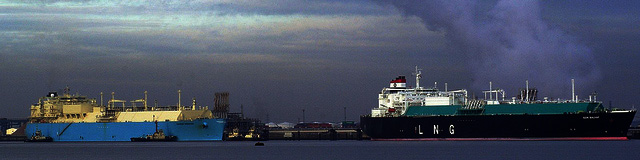LNG_ship: (361, 70, 636, 141), (24, 89, 231, 142)
tug_boat: (133, 125, 180, 144), (24, 126, 54, 143), (241, 121, 260, 140), (228, 124, 240, 144)
